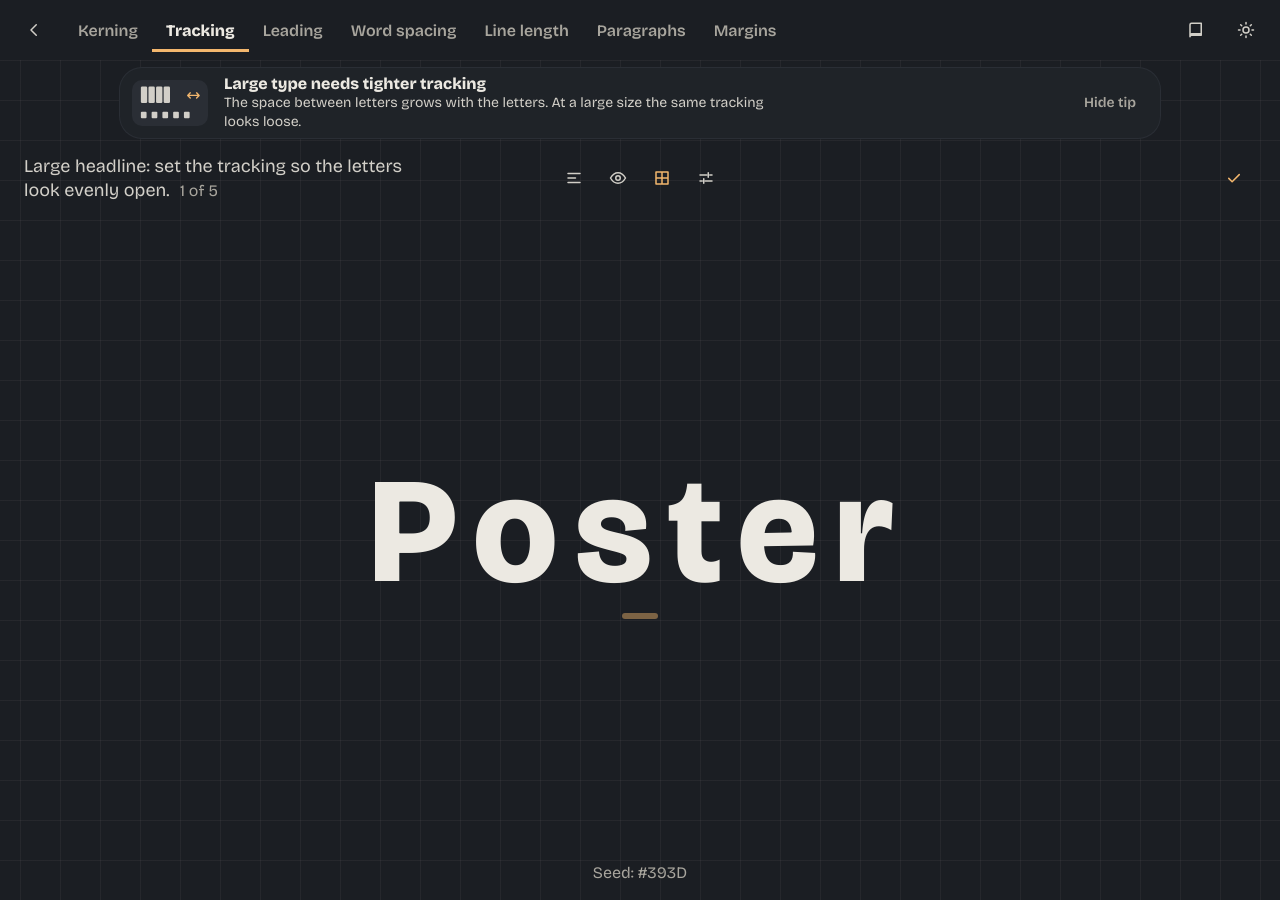
Scenario: Design Playground › steps through the lesson and switches modes
The image size is (1280, 900).
Step 1. Click the button named "Lesson" → click(1196, 30), box [1174,8,1218,52]
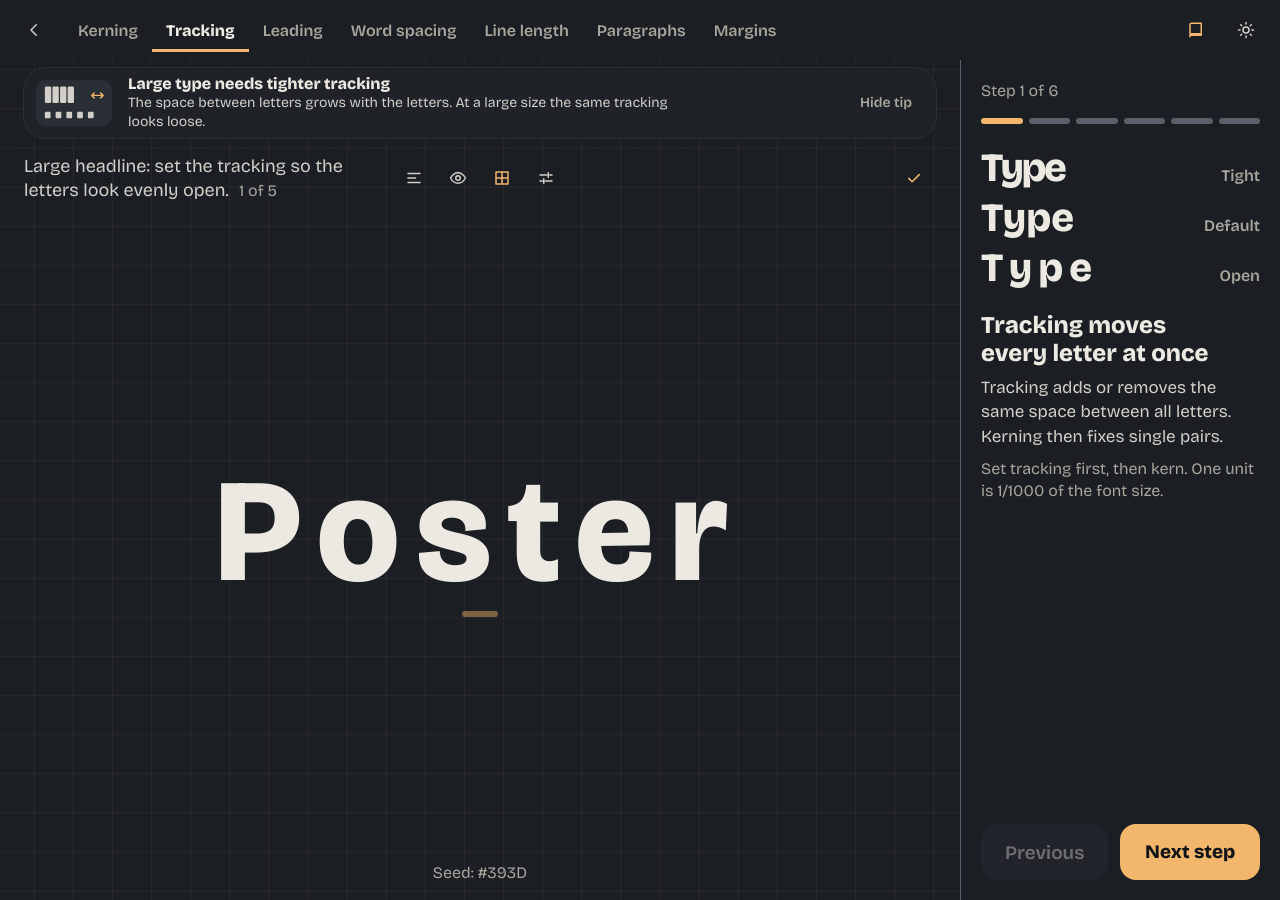
Check: the button "Previous" is disabled, box [981,824,1108,880]
Step 2. Click the button "Next step" → click(1190, 852), box [1120,824,1260,880]
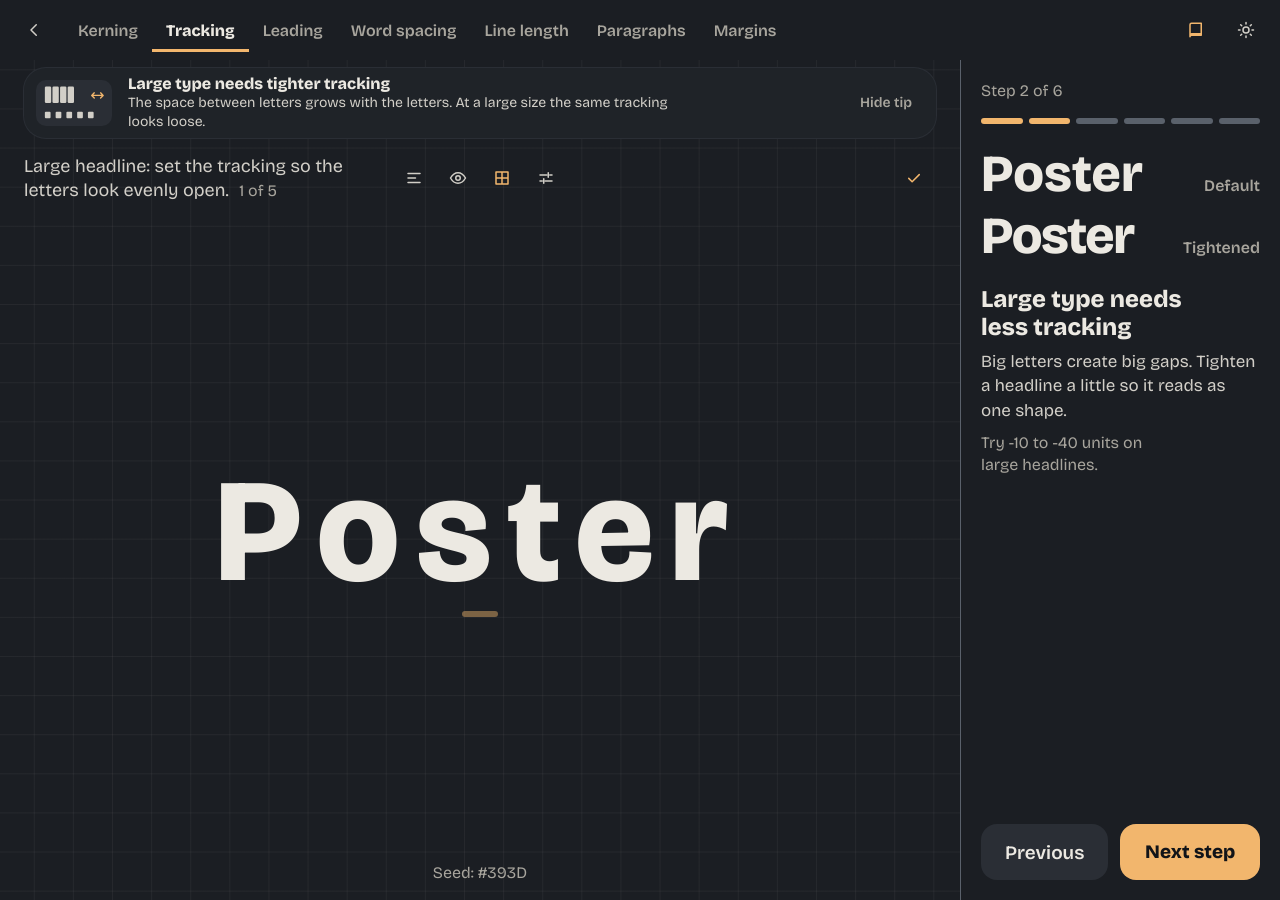
Check: the text "Step 2 of 6" is shown, box [981,80,1063,102]
Check: the button "Previous" is enabled, box [981,824,1108,880]
Step 3. Click the button "Leading" → click(293, 30), box [249,8,337,52]
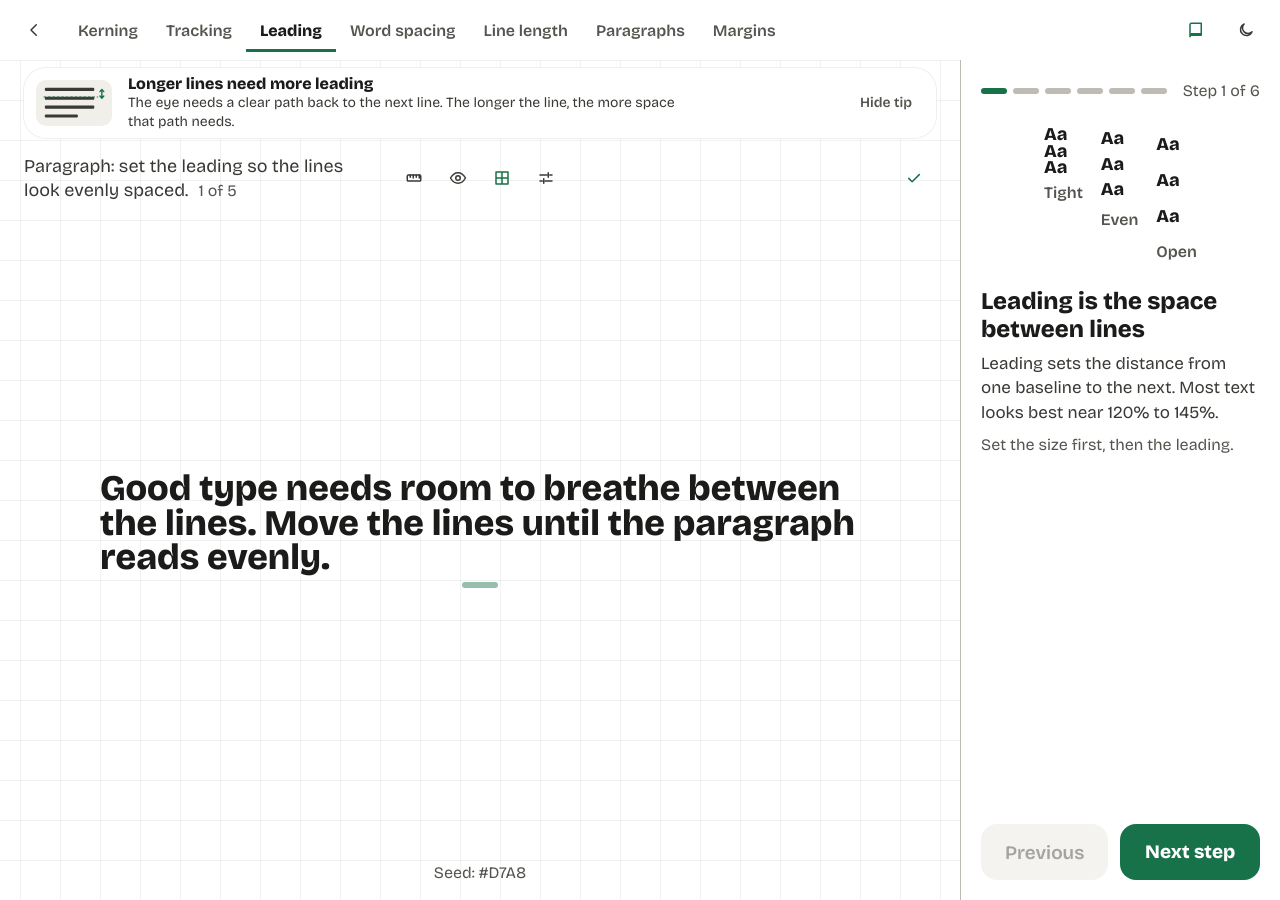
Check: the element named "Leading lesson" is shown, box [960,60,1279,899]
